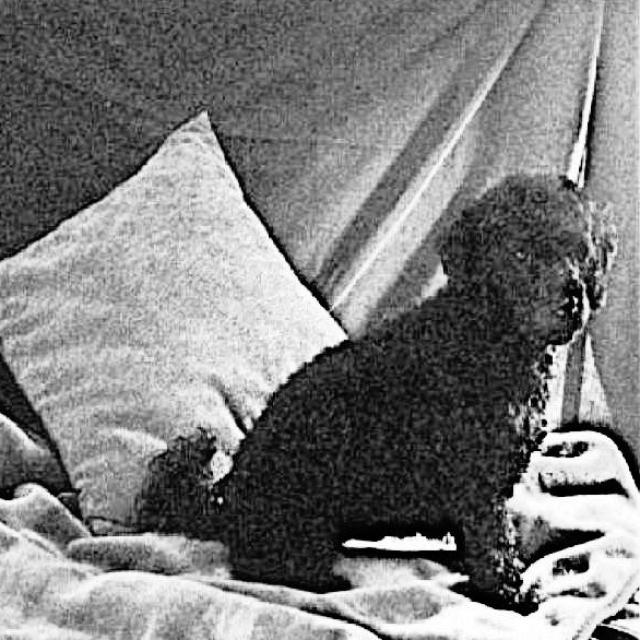Dog: (138, 160, 628, 618)
